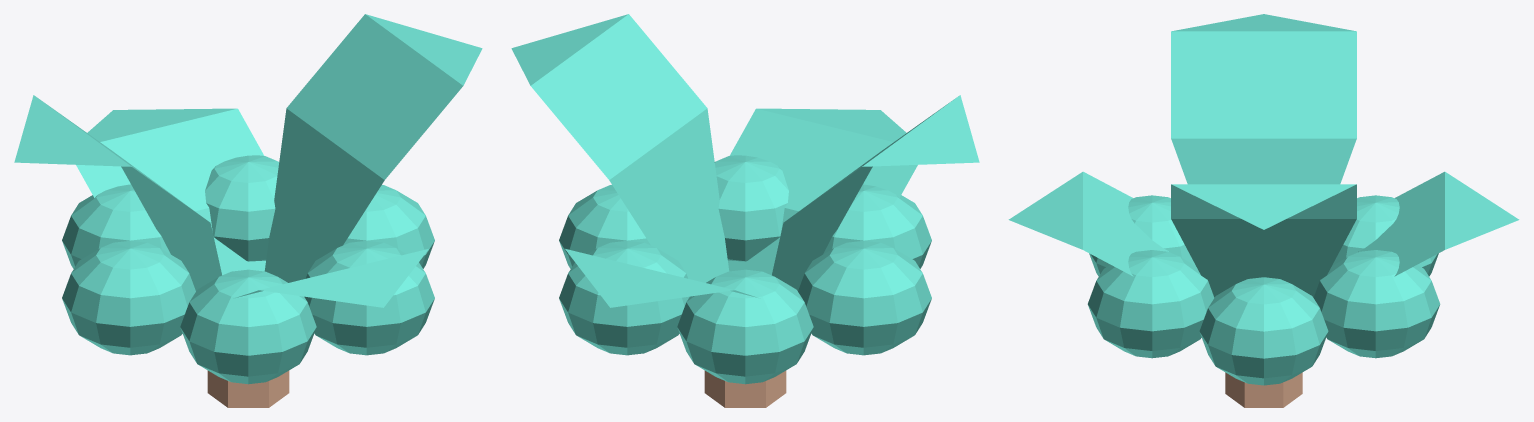
The model's file is plant_bush.glb.
3 renders of one model, left to right at view 1: azimuth 30°, elevation 25°; view 2: azimuth 150°, elevation 25°; view 3: azimuth 270°, elevation 25°, orthographic. The views are drawn at different scales.
Visible parts, largest first — view 1: plant_bush; view 2: plant_bush; view 3: plant_bush.
Boxes of the visible parts, left/top/right/bottom form: plant_bush: left=14, top=14, right=482, bottom=407; plant_bush: left=511, top=14, right=979, bottom=407; plant_bush: left=1008, top=14, right=1519, bottom=407.
Bounding box in the file's own units: 0.396 × 0.2444 × 0.396.
